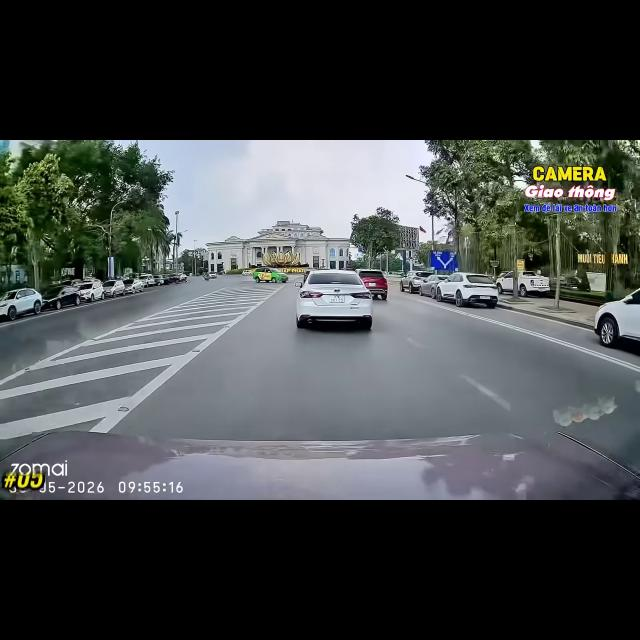car: (295, 270, 373, 329), (594, 288, 640, 348), (436, 272, 498, 308), (0, 288, 41, 320), (355, 269, 387, 300), (41, 285, 80, 309), (517, 271, 549, 296), (400, 271, 432, 293), (419, 275, 447, 298), (79, 282, 105, 301), (253, 268, 288, 282), (103, 280, 125, 297), (123, 278, 144, 293), (139, 274, 155, 286), (303, 268, 315, 282), (168, 274, 181, 283), (152, 275, 163, 285), (242, 269, 252, 275), (207, 272, 216, 278)
motorcycle: (205, 277, 209, 280)
